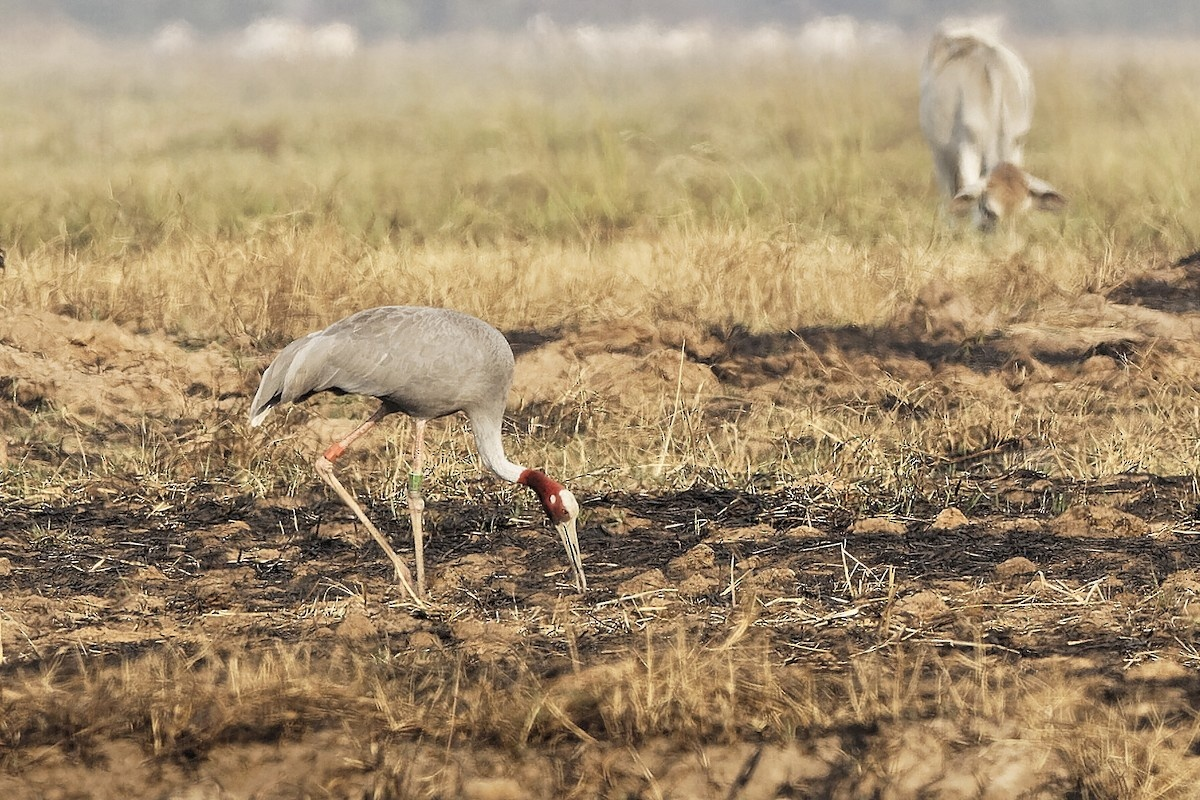crane: (250, 293, 596, 620)
